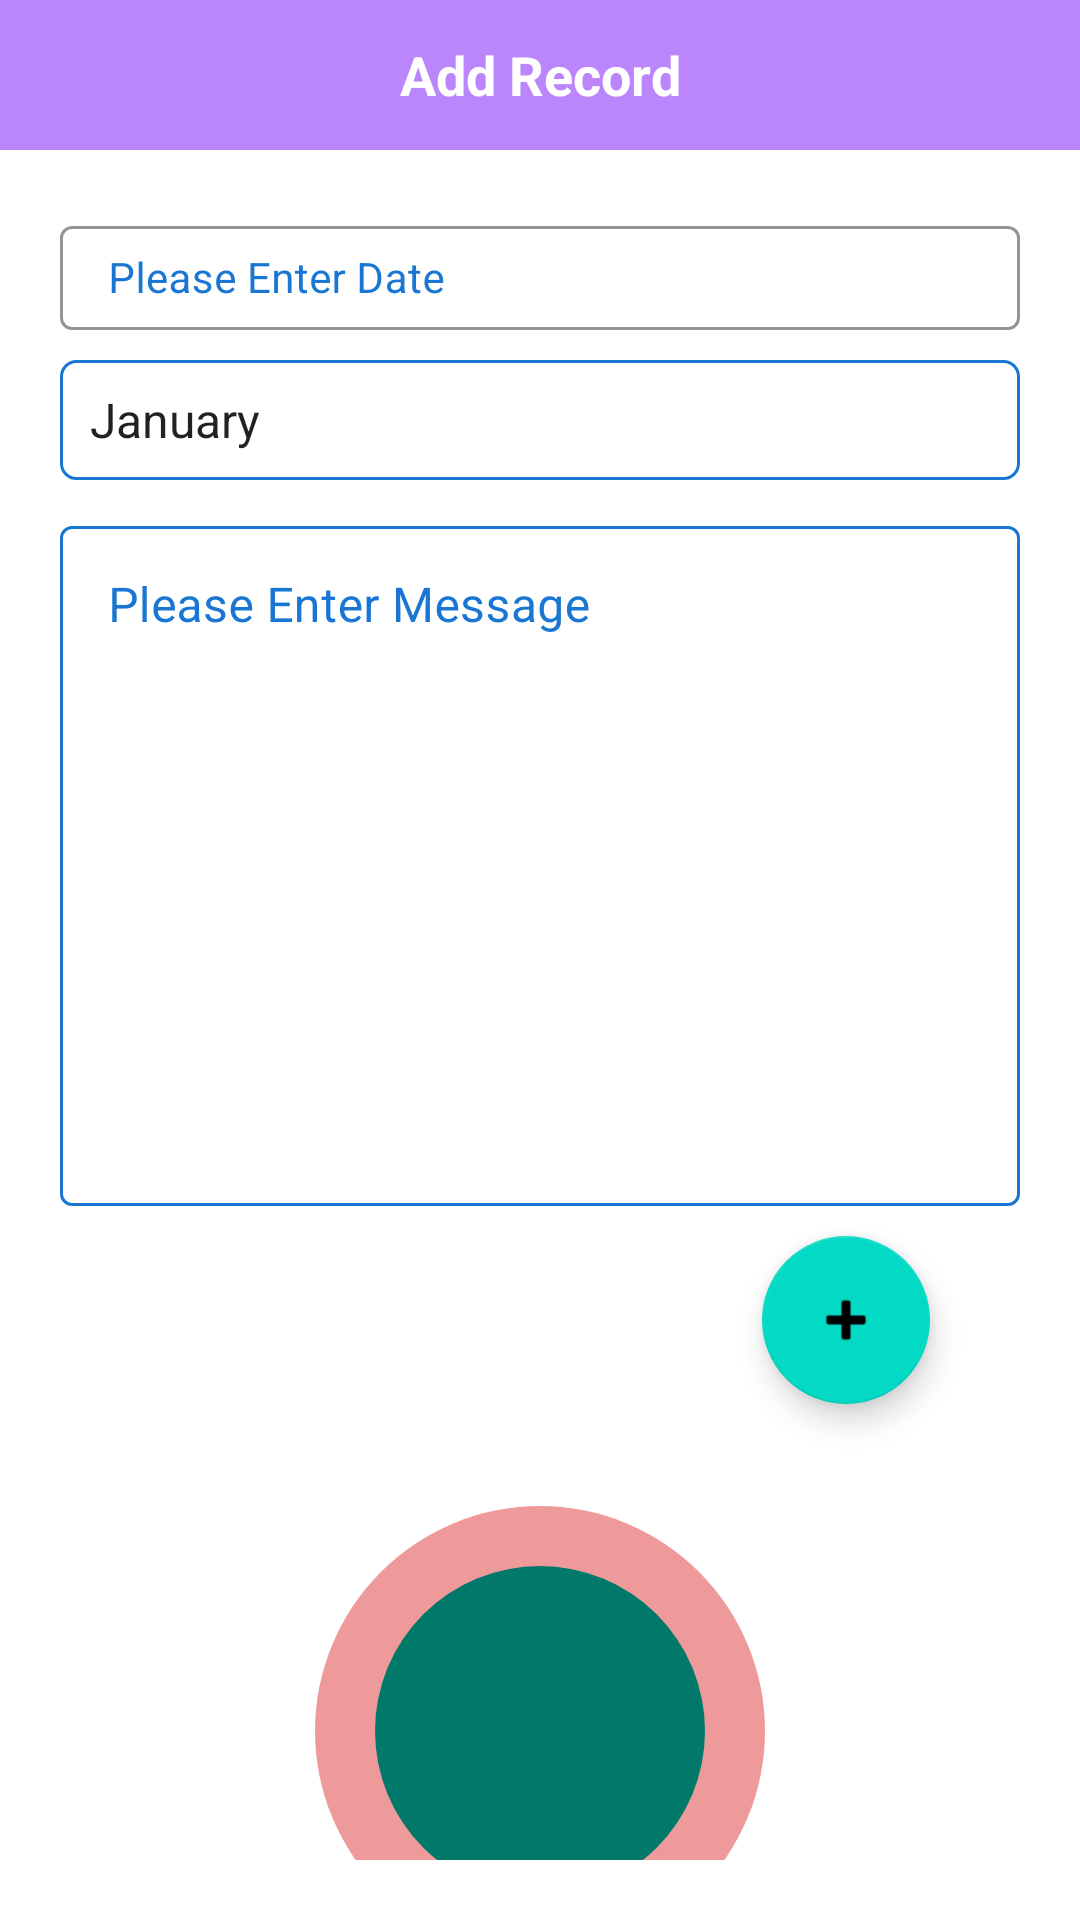

Where to tap for icons on this 1080 x 1920 app screen, as (x,y):
add: (846,1320)
